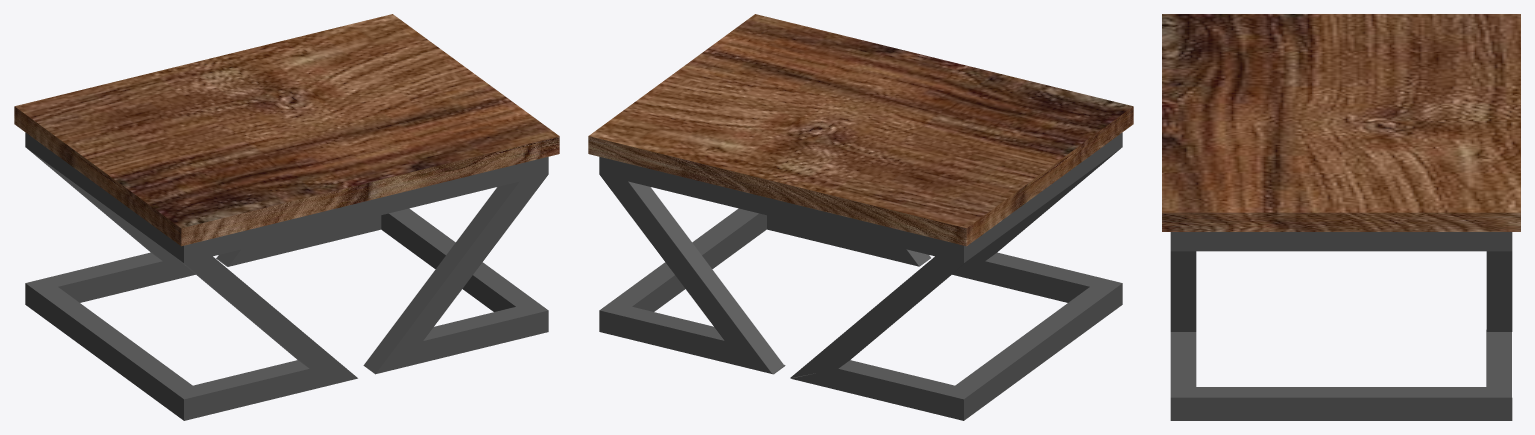
File: Table Basse Omega.glb
The picture shows the model from 3 angles, left to right: view 1: azimuth 30°, elevation 25°; view 2: azimuth 150°, elevation 25°; view 3: azimuth 270°, elevation 25°; orthographic projection. The views are drawn at different scales.
Visible parts, largest first — view 1: plateau, Cube.009, Cube.004, Cube.007, Cube.006, Cube.020, Cube.012, Cube.001, Cube.019, Cube.002, Cube.016, Cube.018; view 2: plateau, Cube.017, Cube.003, Cube.007, Cube.019, Cube.016, Cube.018, Cube.001, Cube.006, Cube.002, Cube.020, Cube.012; view 3: plateau, Cube.001, Cube.008, Cube.009, Cube.017, Cube.020, Cube.016.
Boxes of the visible parts, bbox=[...] form: plateau: bbox=[14, 14, 559, 246]; Cube.009: bbox=[363, 174, 548, 374]; Cube.004: bbox=[184, 157, 548, 263]; Cube.007: bbox=[25, 283, 192, 420]; Cube.006: bbox=[184, 360, 357, 420]; Cube.020: bbox=[376, 306, 548, 373]; Cube.012: bbox=[174, 256, 357, 378]; Cube.001: bbox=[381, 208, 547, 311]; Cube.019: bbox=[26, 252, 195, 302]; Cube.002: bbox=[25, 132, 183, 262]; Cube.016: bbox=[216, 215, 381, 266]; Cube.018: bbox=[27, 148, 184, 265]; plateau: bbox=[588, 14, 1133, 246]; Cube.017: bbox=[599, 174, 784, 373]; Cube.003: bbox=[599, 157, 963, 263]; Cube.007: bbox=[955, 283, 1122, 420]; Cube.019: bbox=[791, 360, 963, 420]; Cube.016: bbox=[599, 306, 785, 374]; Cube.018: bbox=[790, 256, 973, 378]; Cube.001: bbox=[599, 208, 766, 331]; Cube.006: bbox=[952, 252, 1121, 302]; Cube.002: bbox=[964, 132, 1122, 262]; Cube.020: bbox=[767, 215, 918, 266]; Cube.012: bbox=[963, 148, 1120, 265]; plateau: bbox=[1162, 14, 1520, 231]; Cube.001: bbox=[1170, 387, 1512, 420]; Cube.008: bbox=[1170, 232, 1512, 251]; Cube.009: bbox=[1170, 251, 1196, 331]; Cube.017: bbox=[1486, 251, 1512, 331]; Cube.020: bbox=[1170, 332, 1196, 397]; Cube.016: bbox=[1486, 330, 1511, 397].
Bounding box in the file's own units: 1.1 × 0.548 × 0.84.
Materials: 2 (1 with a texture image).
